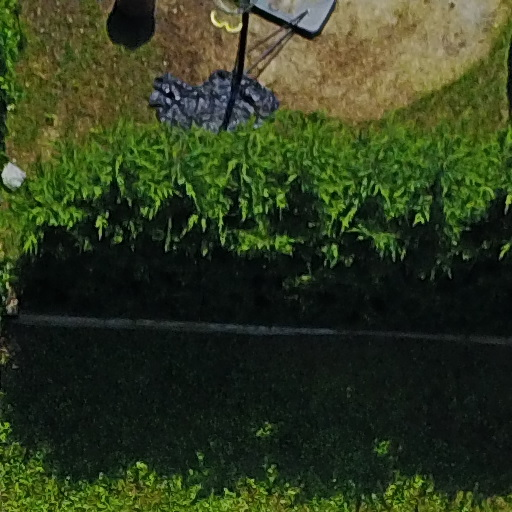basketball: (123, 1, 355, 173)
